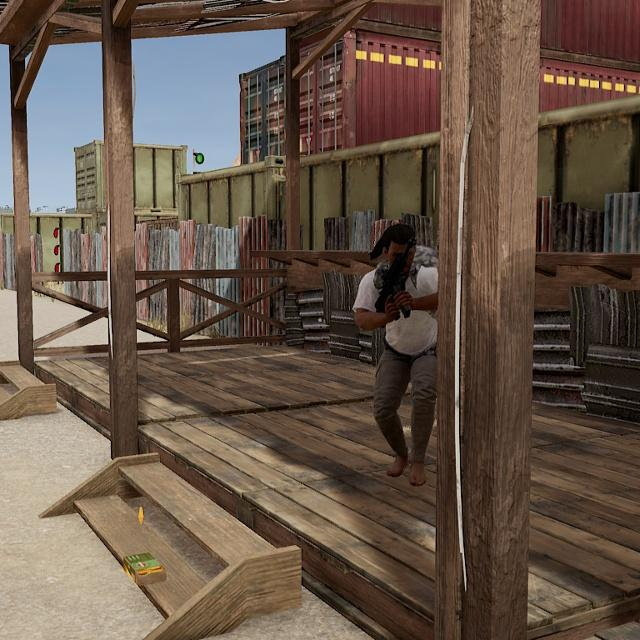head: (377, 220, 421, 279)
people: (354, 215, 440, 487)
